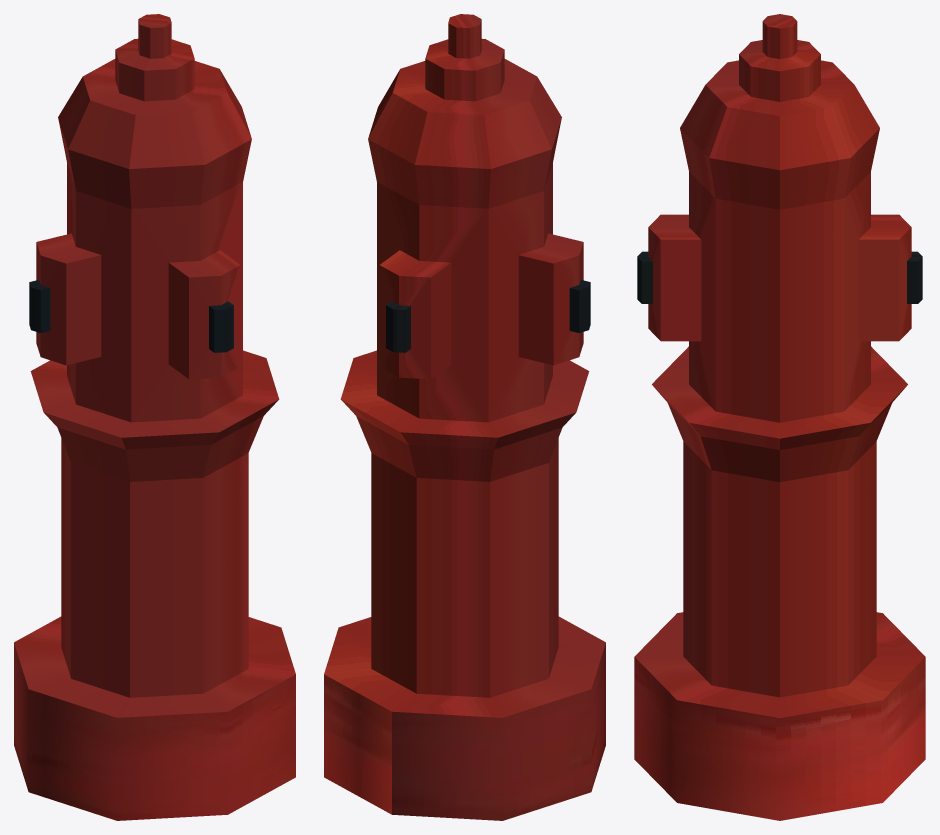
The model's file is Fire Hydrant.fbx.
3 views of the same model, side by side, from view 1: azimuth 30°, elevation 25°; view 2: azimuth 150°, elevation 25°; view 3: azimuth 270°, elevation 25° (orthographic).
Parts seen in each view (by area): view 1: Cylinder001; view 2: Cylinder001; view 3: Cylinder001.
Part boxes in pixels (left/top/right/bottom): Cylinder001: left=14, top=14, right=295, bottom=820; Cylinder001: left=324, top=14, right=605, bottom=820; Cylinder001: left=634, top=14, right=925, bottom=820.
Size of the model in its own units: 20.05 by 56.08 by 20.05.
2 materials, 2 textured.
